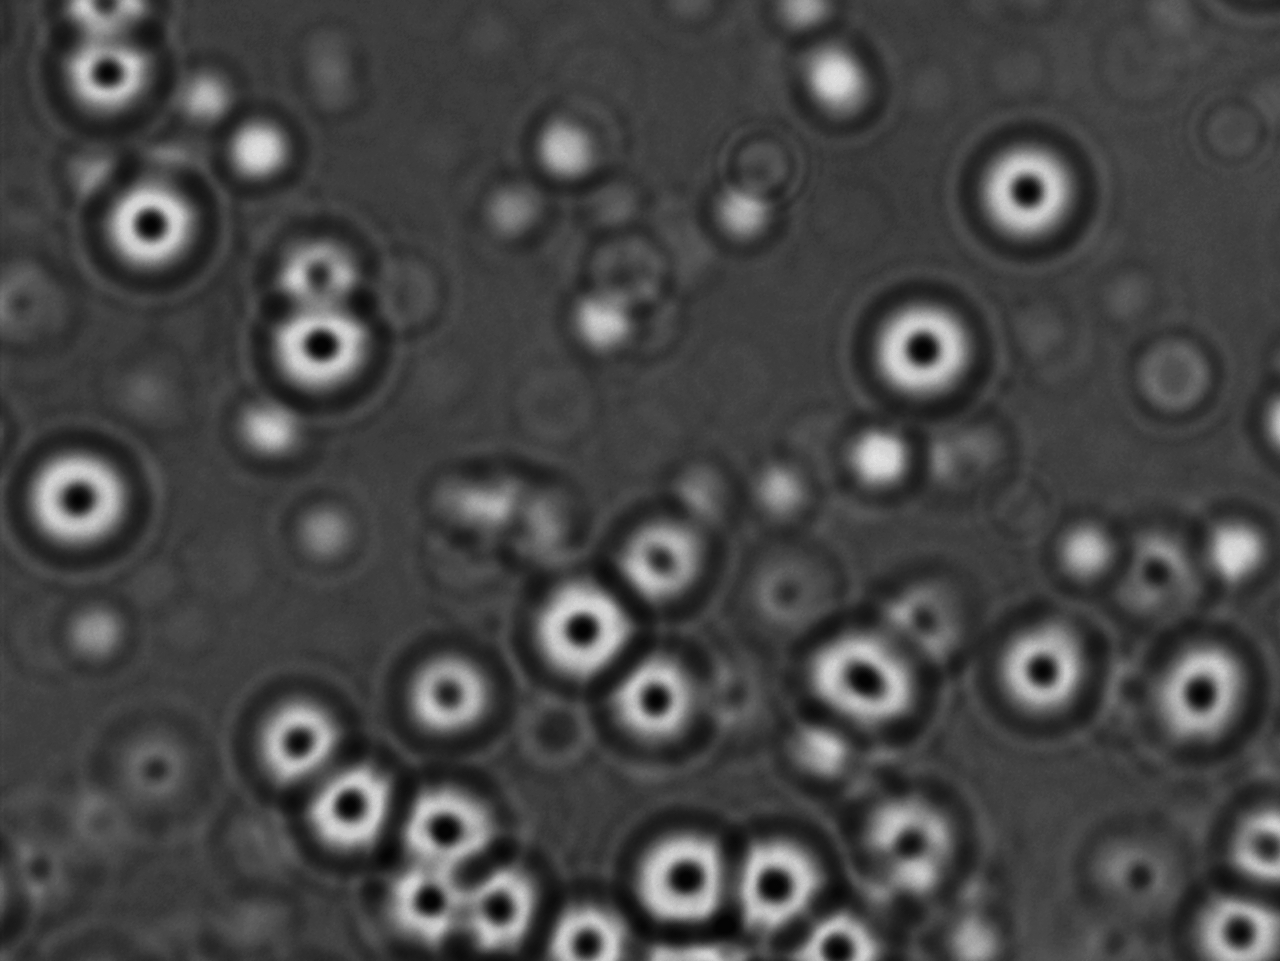depth:24: (956, 118, 1109, 271), (5, 418, 165, 561), (839, 272, 988, 419), (67, 142, 217, 283), (513, 559, 647, 711), (1135, 625, 1277, 765), (246, 280, 395, 412), (217, 666, 366, 791), (382, 775, 516, 896), (621, 811, 755, 932), (986, 602, 1109, 733), (803, 609, 927, 737), (378, 634, 508, 750), (727, 810, 851, 931), (593, 645, 713, 766), (605, 496, 726, 610), (292, 750, 410, 863), (358, 848, 476, 951), (453, 855, 566, 955)
